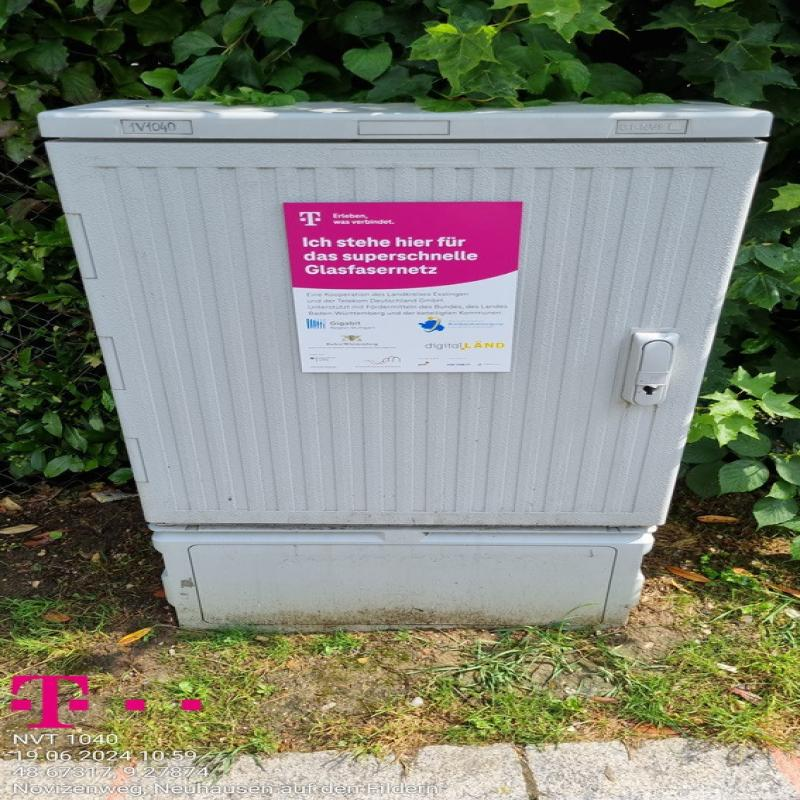NT-Gehause: (38, 97, 778, 622)
Steaker: (283, 198, 517, 370)
